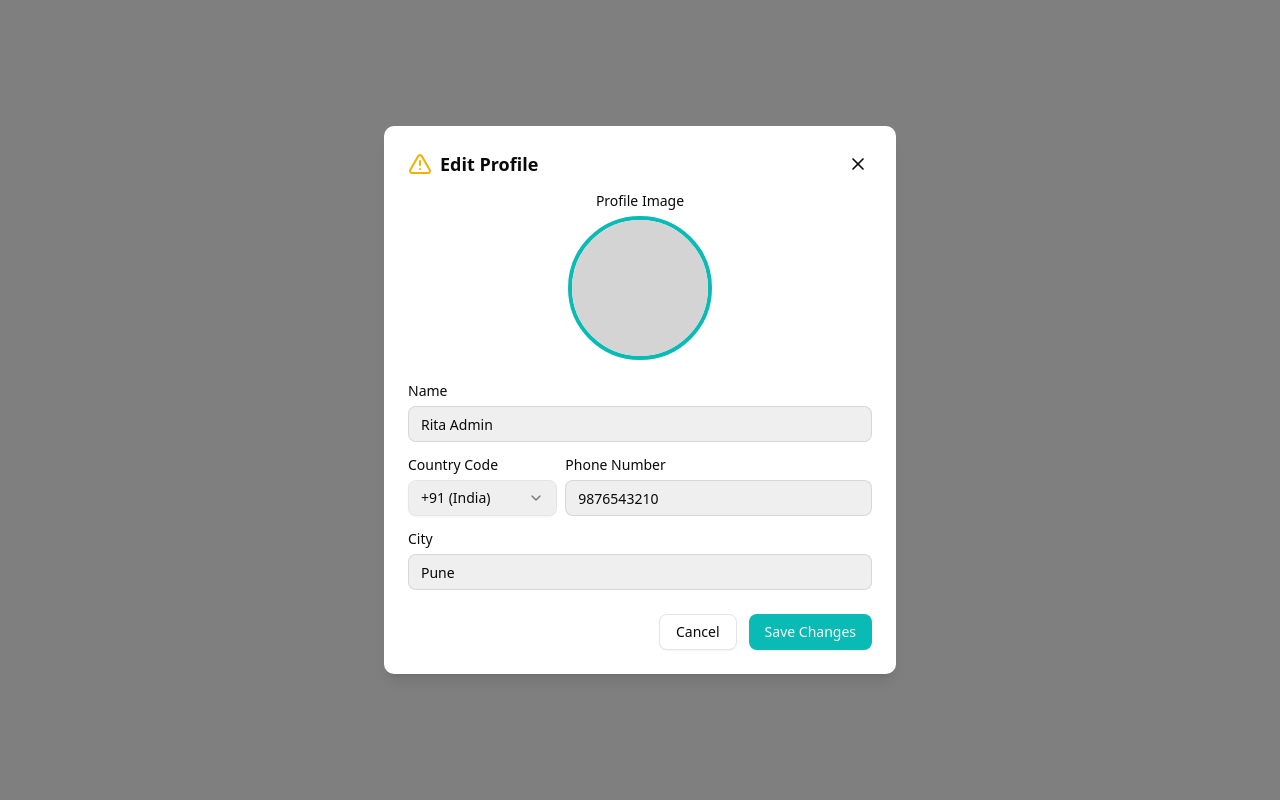
Scenario: EditProfileModal › refuses to save with letters in the phone number
Replace the text in the field with placeholder "Enter phone number" with "98765abcde" at [719, 498], box x1=565 y1=480 x2=872 y2=516
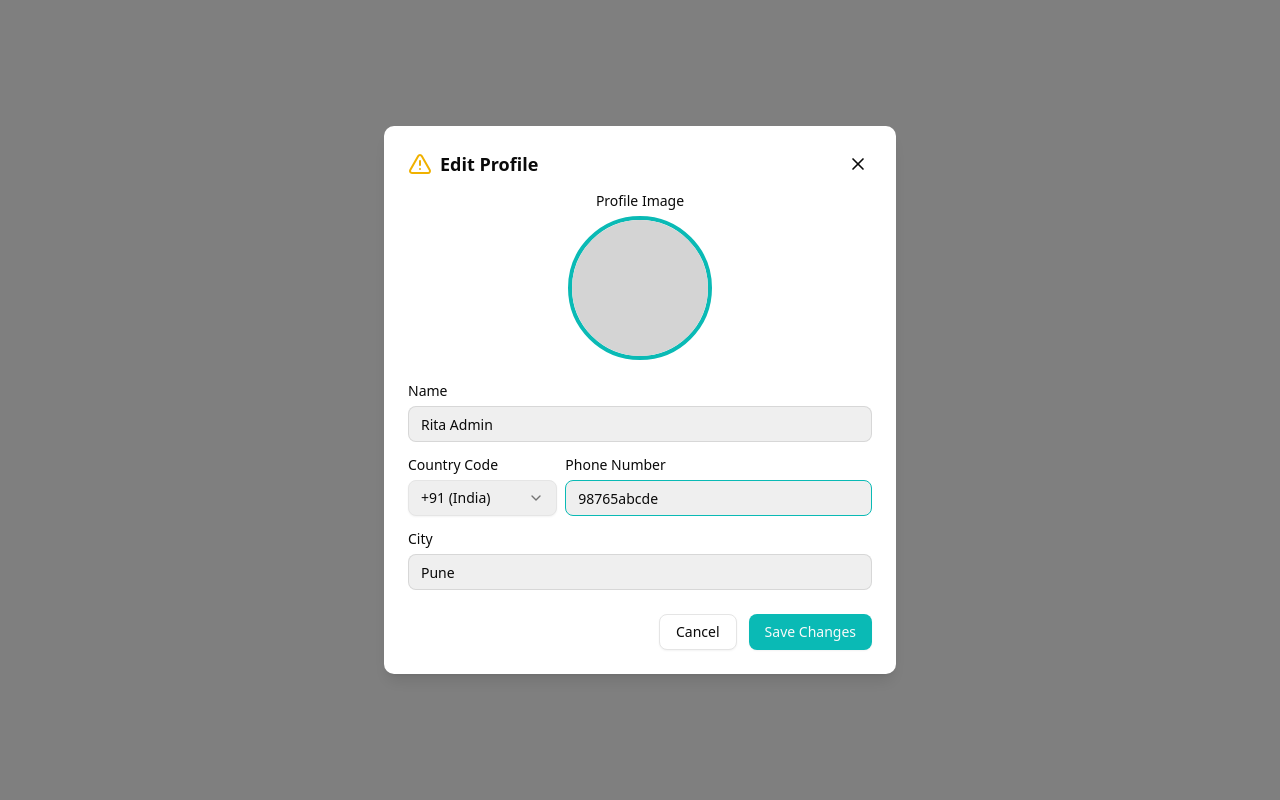
Click the button "Save Changes" at [810, 632], box x1=749 y1=614 x2=872 y2=650
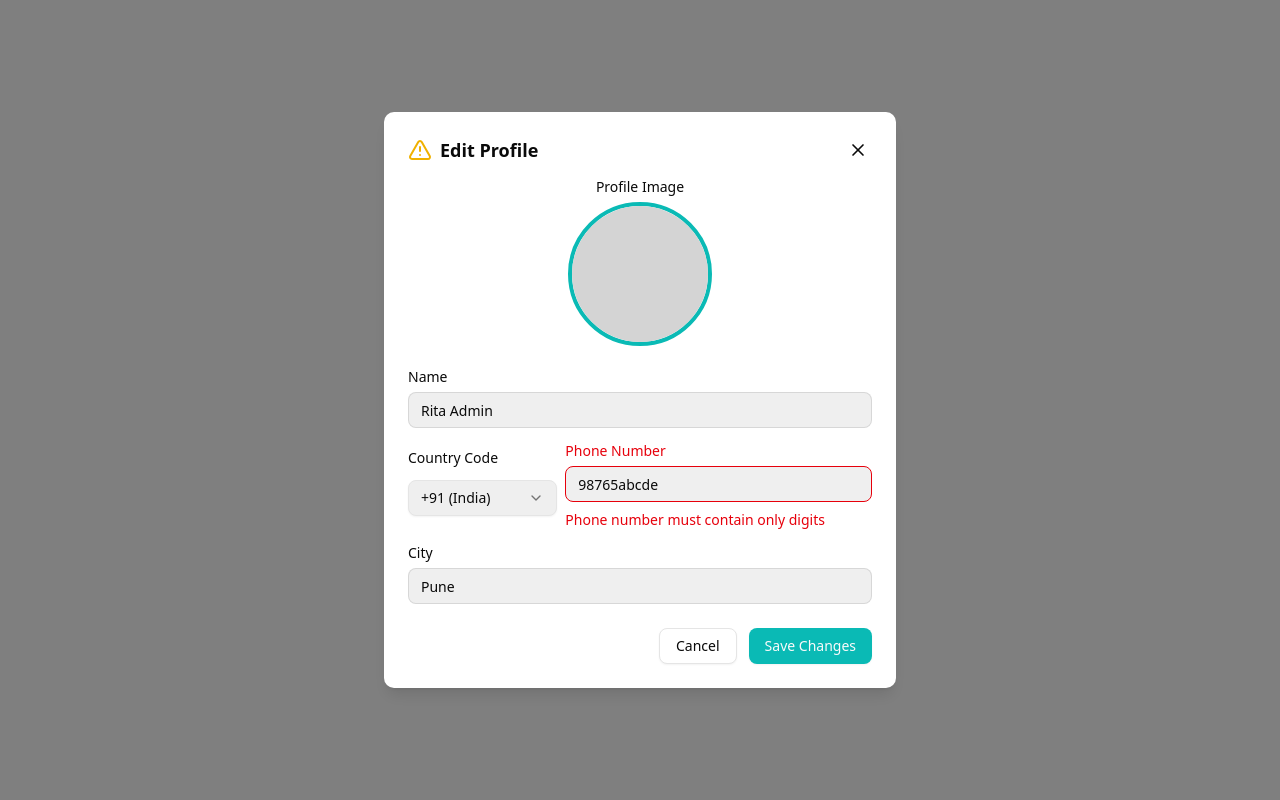
Now the text "Phone number must contain only digits" is shown, box x1=565 y1=510 x2=825 y2=529
